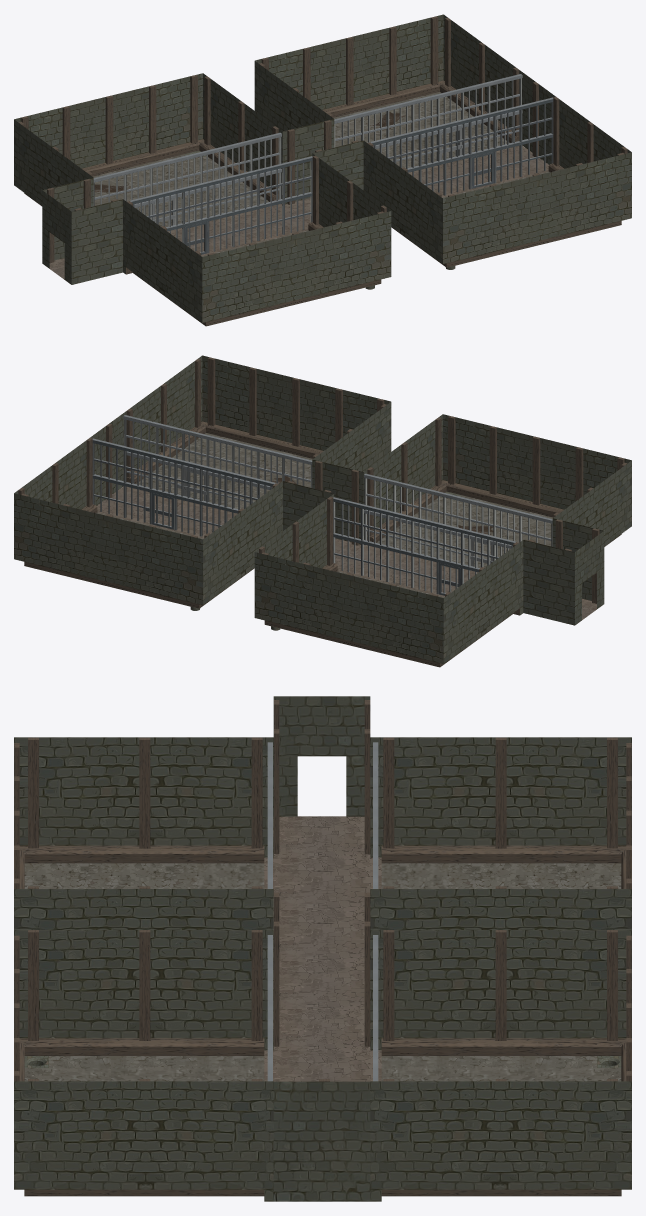
The model's file is Prison_2.fbx.
3 views of the same model, one above another, from view 1: azimuth 30°, elevation 25°; view 2: azimuth 150°, elevation 25°; view 3: azimuth 270°, elevation 25° (orthographic). The views are drawn at different scales.
Visible parts, largest first — view 1: wall_3 (×4), floor5 (×2), Iron_grill_D (×4), Iron_grill_A (×4), Iron_grill_C (×4), Corridor_wall_9, Iron_grill_B (×4), Corridor_floor_3, Corridor_floor_1, Corridor_wall_2, Corridor_wall_6, Corridor_wall_7 (+11 smaller); view 2: wall_3 (×4), floor5 (×2), Iron_grill_D (×4), Iron_grill_A (×4), Iron_grill_C (×4), Corridor_wall_8, Iron_grill_B (×4), Corridor_floor_3, Corridor_floor_1, Corridor_wall_7, Corridor_wall_6, Corridor_wall_1 (+10 smaller); view 3: wall_3 (×4), floor5 (×4), Corridor_floor_3, Corridor_wall_1, Corridor_wall_6, Corridor_floor_2, Corridor_floor_4, Iron_grill_A (×4), Corridor_floor_1, wood_Pillar_11 (×2), wood_Pillar_12 (×2), wood_Pillar_1 (×2) (+7 smaller).
Boxes of the visible parts, <box> form: wall_3 (×4): <box>14,14,631,326</box>; floor5 (×2): <box>24,92,509,227</box>; Iron_grill_D (×4): <box>100,80,545,251</box>; Iron_grill_A (×4): <box>93,74,553,231</box>; Iron_grill_C (×4): <box>93,78,553,253</box>; Corridor_wall_9: <box>71,199,122,284</box>; Iron_grill_B (×4): <box>94,94,552,238</box>; Corridor_floor_3: <box>167,204,308,256</box>; Corridor_floor_1: <box>408,145,548,197</box>; Corridor_wall_2: <box>282,119,334,204</box>; Corridor_wall_6: <box>42,190,71,284</box>; Corridor_wall_7: <box>312,140,363,190</box>; wall_3 (×4): <box>14,355,631,667</box>; floor5 (×2): <box>136,433,621,568</box>; Iron_grill_D (×4): <box>100,421,545,592</box>; Iron_grill_A (×4): <box>92,415,552,572</box>; Iron_grill_C (×4): <box>92,419,552,594</box>; Corridor_wall_8: <box>523,540,574,625</box>; Iron_grill_B (×4): <box>93,435,551,579</box>; Corridor_floor_3: <box>337,545,478,597</box>; Corridor_floor_1: <box>97,486,237,538</box>; Corridor_wall_7: <box>312,459,363,544</box>; Corridor_wall_6: <box>575,531,604,624</box>; Corridor_wall_1: <box>93,414,122,505</box>; wall_3 (×4): <box>14,737,631,1201</box>; floor5 (×4): <box>24,863,621,1195</box>; Corridor_floor_3: <box>264,857,381,1008</box>; Corridor_wall_1: <box>273,1081,370,1201</box>; Corridor_wall_6: <box>273,696,370,816</box>; Corridor_floor_2: <box>273,1009,370,1050</box>; Corridor_floor_4: <box>273,816,370,857</box>; Iron_grill_A (×4): <box>267,742,378,1081</box>; Corridor_floor_1: <box>264,1050,381,1081</box>; wood_Pillar_11 (×2): <box>139,737,506,848</box>; wood_Pillar_12 (×2): <box>251,737,394,848</box>; wood_Pillar_1 (×2): <box>251,930,394,1040</box>.
Size of the model in its own units: 2618 by 406 by 1774.
